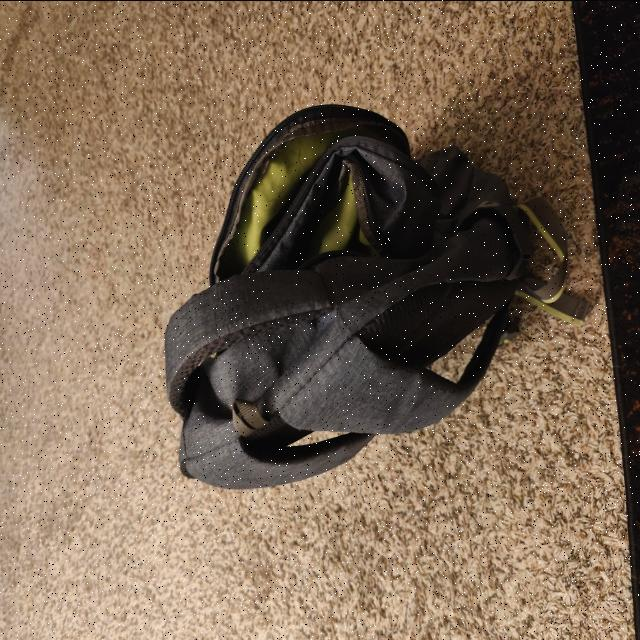bag: (178, 116, 532, 462)
